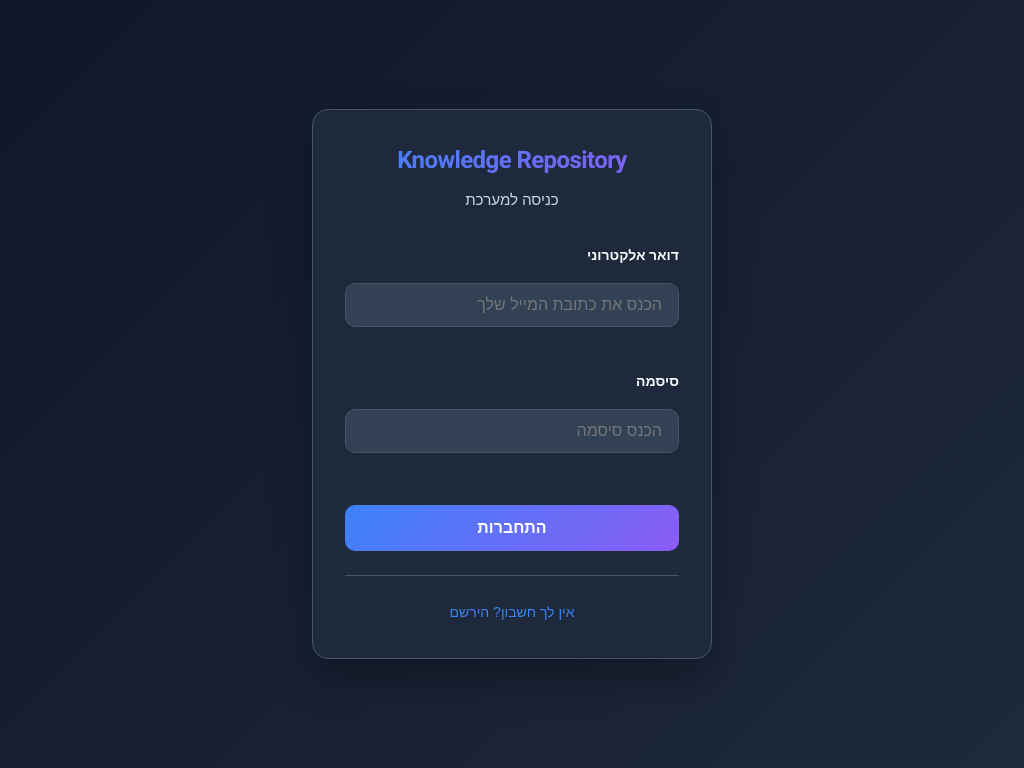
Scenario: Login Page › Rendering › can switch to register mode
The width and height of the screenshot is (1024, 768).
Click the button "אין לך חשבון? הירשם" at (512, 612), box [450,604,574,620]
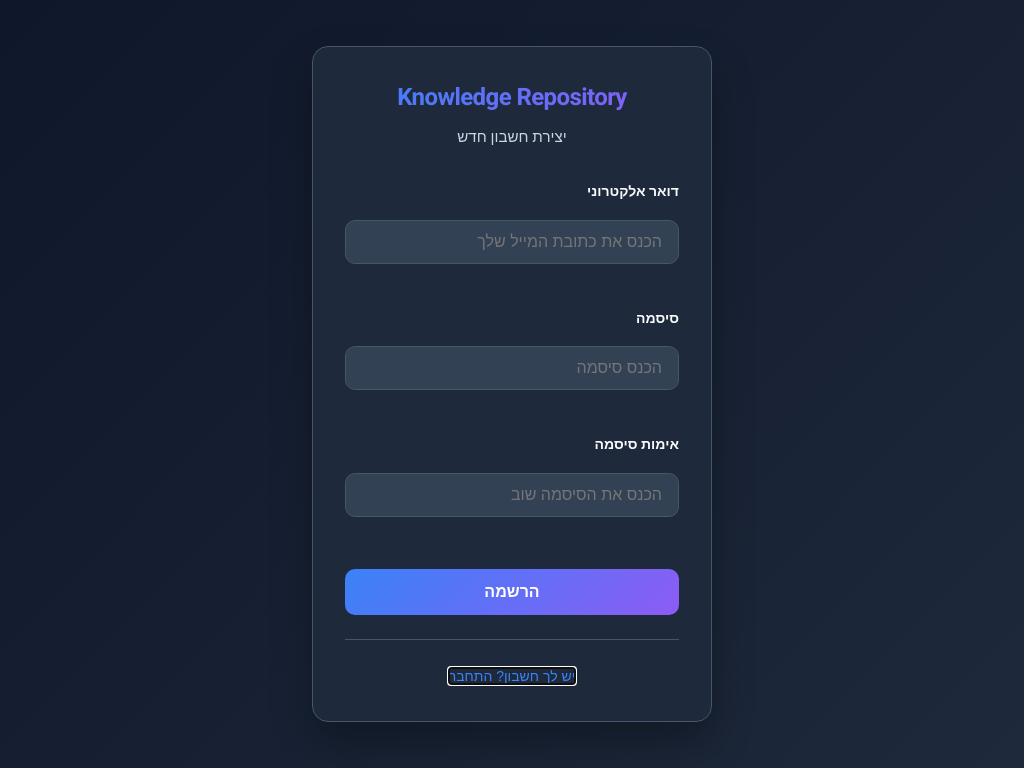
Now the password field labelled "אימות סיסמה" is shown, box [345,473,679,517]
Now the button "הרשמה" is shown, box [345,569,679,615]
